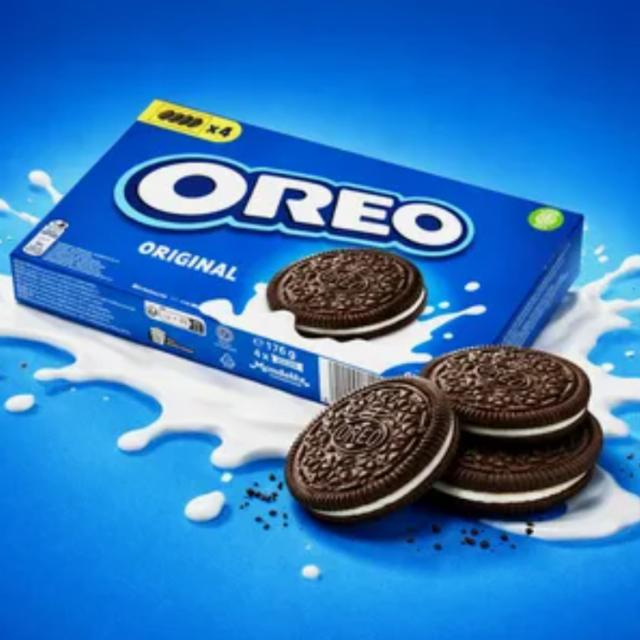supermarket-product: (63, 147, 632, 543)
